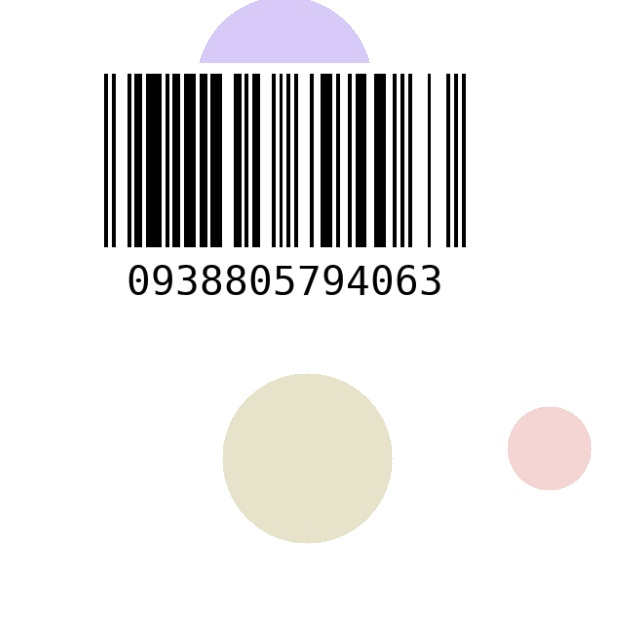barcode: (30, 63, 540, 336)
